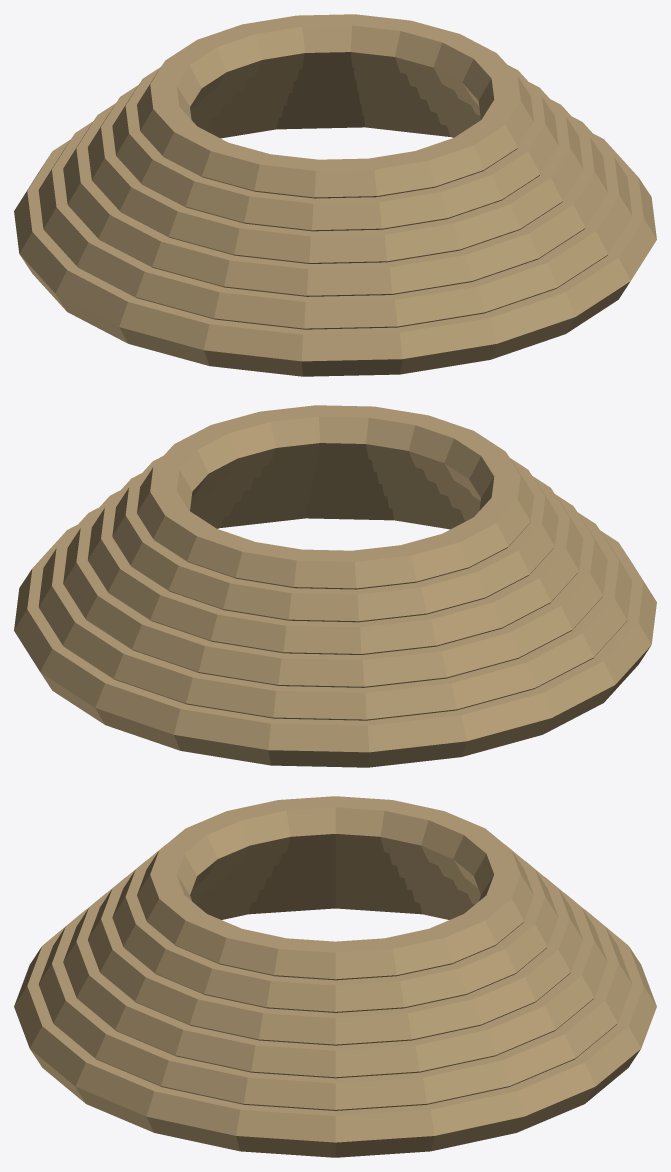
File: equipment-rope-coil.lod0.glb
3 renders of one model, top to bottom at view 1: azimuth 30°, elevation 25°; view 2: azimuth 150°, elevation 25°; view 3: azimuth 270°, elevation 25°, orthographic.
Visible parts, largest first — view 1: equipment-rope-coil__body; view 2: equipment-rope-coil__body; view 3: equipment-rope-coil__body.
Part boxes in pixels (box(x1,y1,x2,y2)): equipment-rope-coil__body: box(14, 14, 656, 376); equipment-rope-coil__body: box(14, 405, 656, 767); equipment-rope-coil__body: box(14, 796, 656, 1157).
Bounding box in the file's own units: 0.654 × 0.1718 × 0.654.
